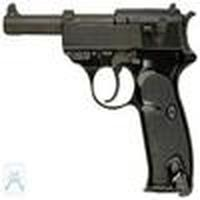gun: (4, 5, 195, 194)
